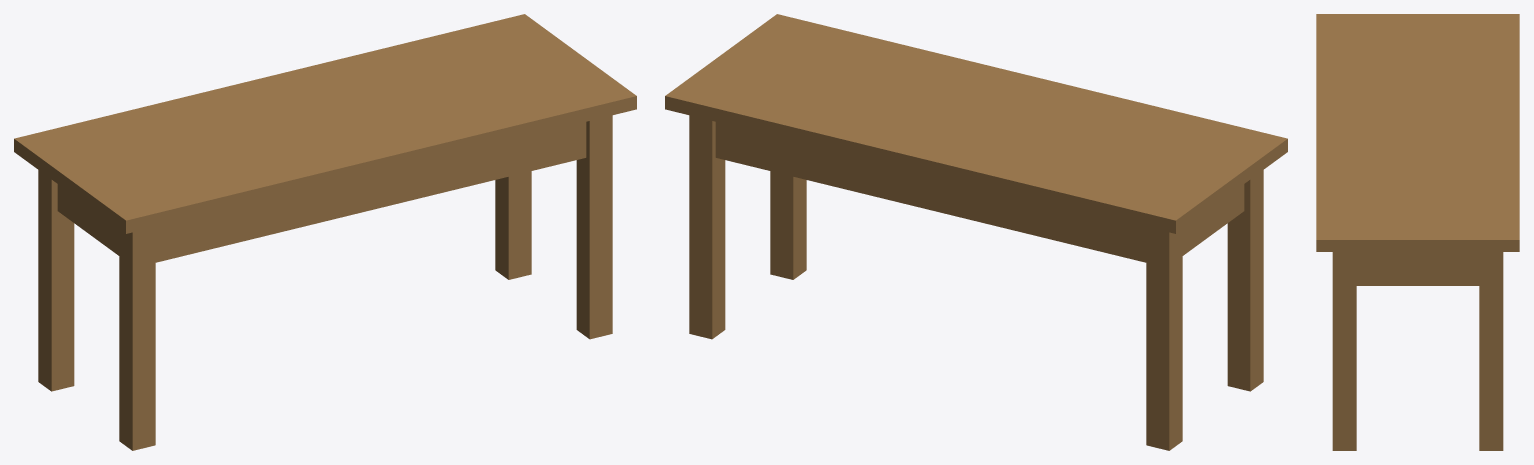
The model's file is HIN-EBN-std.glb.
3 views of the same model, side by side, from view 1: azimuth 30°, elevation 25°; view 2: azimuth 150°, elevation 25°; view 3: azimuth 270°, elevation 25° (orthographic). The views are drawn at different scales.
Parts seen in each view (by area): view 1: top:pbr, apron-f:pbr, leg-fl:pbr, leg-fr:pbr, leg-bl:pbr, leg-br:pbr, apron-l:pbr; view 2: top:pbr, apron-b:pbr, leg-bl:pbr, leg-br:pbr, leg-fl:pbr, leg-fr:pbr, apron-l:pbr; view 3: top:pbr, leg-fr:pbr, leg-br:pbr, apron-r:pbr.
Boxes of the visible parts, x1,y1,x2,y2 form: top:pbr: (14, 14, 636, 233); apron-f:pbr: (155, 122, 586, 262); leg-fl:pbr: (119, 227, 155, 450); leg-fr:pbr: (576, 115, 612, 339); leg-bl:pbr: (38, 170, 74, 391); leg-br:pbr: (495, 171, 531, 279); apron-l:pbr: (57, 184, 119, 255); top:pbr: (665, 14, 1287, 233); apron-b:pbr: (715, 122, 1146, 262); leg-bl:pbr: (1146, 227, 1182, 450); leg-br:pbr: (689, 115, 725, 339); leg-fl:pbr: (1227, 170, 1263, 391); leg-fr:pbr: (770, 171, 806, 279); apron-l:pbr: (1182, 184, 1244, 255); top:pbr: (1316, 14, 1519, 251); leg-fr:pbr: (1332, 252, 1356, 450); leg-br:pbr: (1479, 252, 1503, 450); apron-r:pbr: (1356, 252, 1479, 285).
Bounding box in the file's own units: 1 × 0.45 × 0.38.
